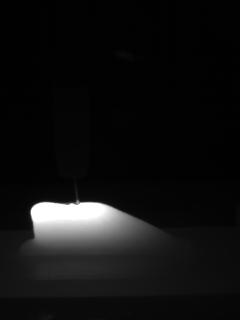tip_wire_left: (58, 173, 79, 204)
tip_wire_right: (77, 172, 89, 204)
